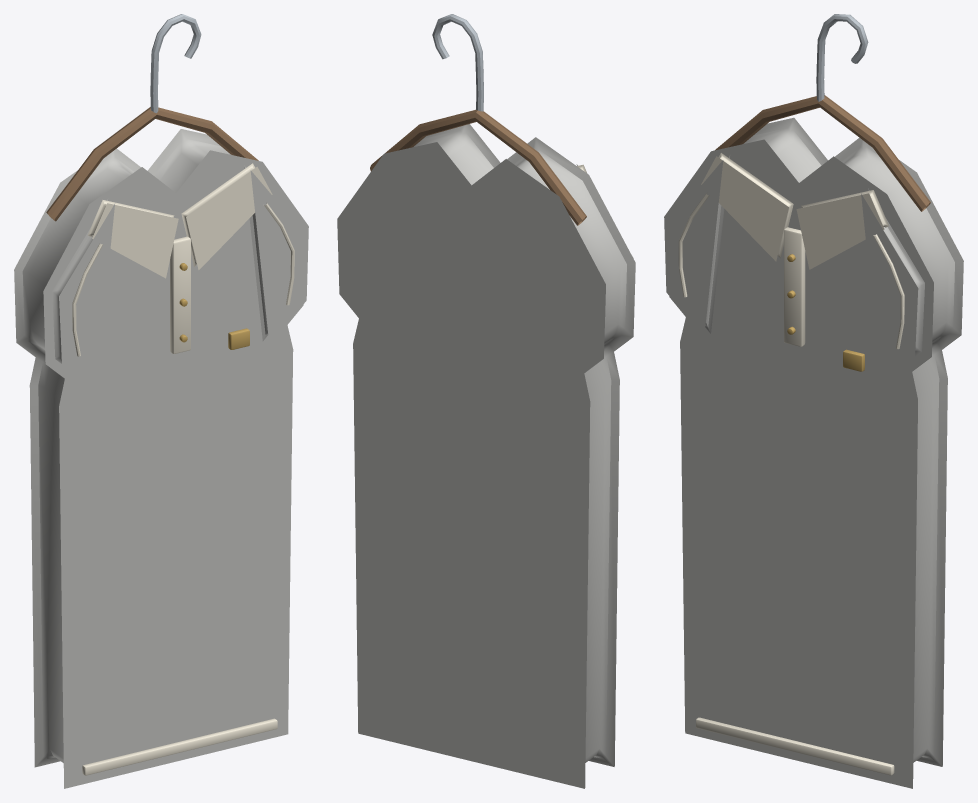
Rendered from checkout_product_hanging_polo.glb.
3 renders of one model, left to right at view 1: azimuth 30°, elevation 25°; view 2: azimuth 150°, elevation 25°; view 3: azimuth 330°, elevation 25°, orthographic.
Parts seen in each view (by area): view 1: HangingPoloBody, HangingPoloSleeve_L, HangingPoloSleeve_R, HangingPoloCollar_R, HangingPoloCollar_L, HangingPoloHanger, HangingPoloHem, HangingPoloPlacket, HangingPoloHook, HangingPoloSleeveSeam_L; view 2: HangingPoloBody, HangingPoloHanger, HangingPoloHook; view 3: HangingPoloBody, HangingPoloSleeve_R, HangingPoloSleeve_L, HangingPoloCollar_L, HangingPoloCollar_R, HangingPoloHanger, HangingPoloPlacket, HangingPoloHem, HangingPoloHook, HangingPoloSleeveSeam_R.
Part boxes in pixels (x1=…): HangingPoloBody: x1=14, y1=129, x2=308, y2=788; HangingPoloSleeve_L: x1=52, y1=199, x2=114, y2=388; HangingPoloSleeve_R: x1=244, y1=165, x2=306, y2=345; HangingPoloCollar_R: x1=181, y1=163, x2=272, y2=269; HangingPoloCollar_L: x1=88, y1=200, x2=178, y2=278; HangingPoloHanger: x1=46, y1=107, x2=258, y2=221; HangingPoloHem: x1=82, y1=718, x2=277, y2=775; HangingPoloPlacket: x1=170, y1=236, x2=190, y2=353; HangingPoloHook: x1=150, y1=14, x2=201, y2=113; HangingPoloSleeveSeam_L: x1=72, y1=243, x2=102, y2=356; HangingPoloBody: x1=337, y1=124, x2=635, y2=788; HangingPoloHanger: x1=370, y1=109, x2=586, y2=225; HangingPoloHook: x1=432, y1=14, x2=483, y2=111; HangingPoloBody: x1=664, y1=117, x2=963, y2=788; HangingPoloSleeve_R: x1=861, y1=188, x2=924, y2=381; HangingPoloSleeve_L: x1=666, y1=155, x2=730, y2=338; HangingPoloCollar_L: x1=701, y1=153, x2=793, y2=261; HangingPoloCollar_R: x1=796, y1=190, x2=888, y2=269; HangingPoloHanger: x1=715, y1=95, x2=930, y2=211; HangingPoloPlacket: x1=784, y1=227, x2=805, y2=346; HangingPoloHem: x1=696, y1=717, x2=894, y2=775; HangingPoloHook: x1=816, y1=14, x2=868, y2=101; HangingPoloSleeveSeam_R: x1=873, y1=234, x2=904, y2=349.
Bounding box in the file's own units: 0.2722 × 0.7104 × 0.081.
